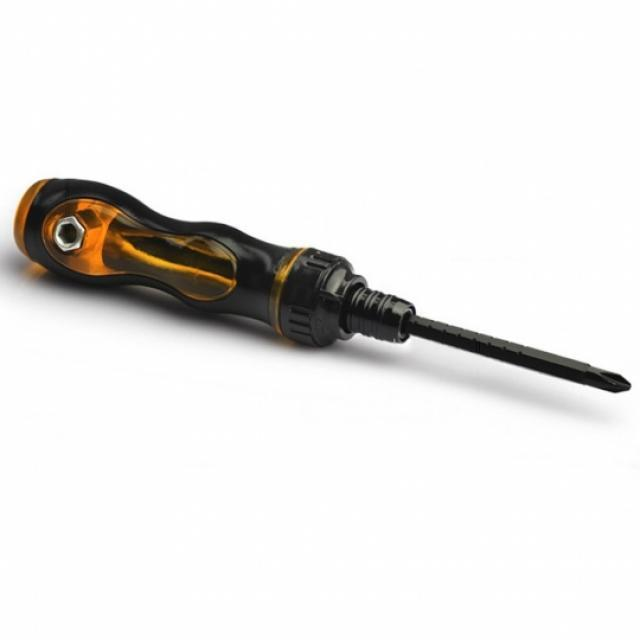screwdriver: (8, 178, 636, 398)
